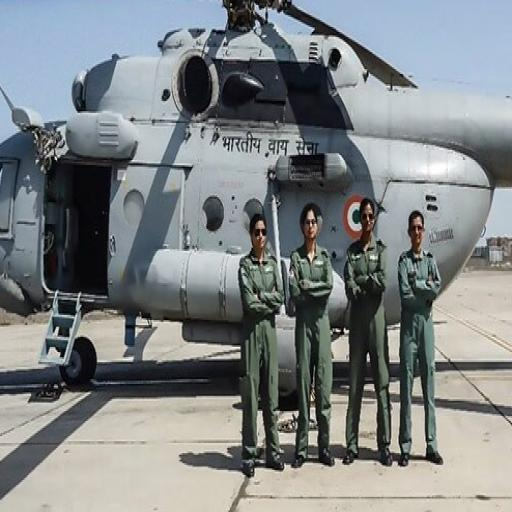helicopter: (1, 1, 512, 398)
